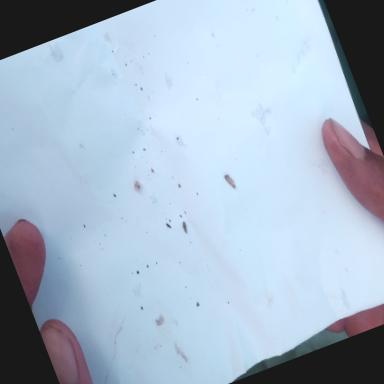pbw: (224, 172, 237, 192), (181, 220, 189, 234)
